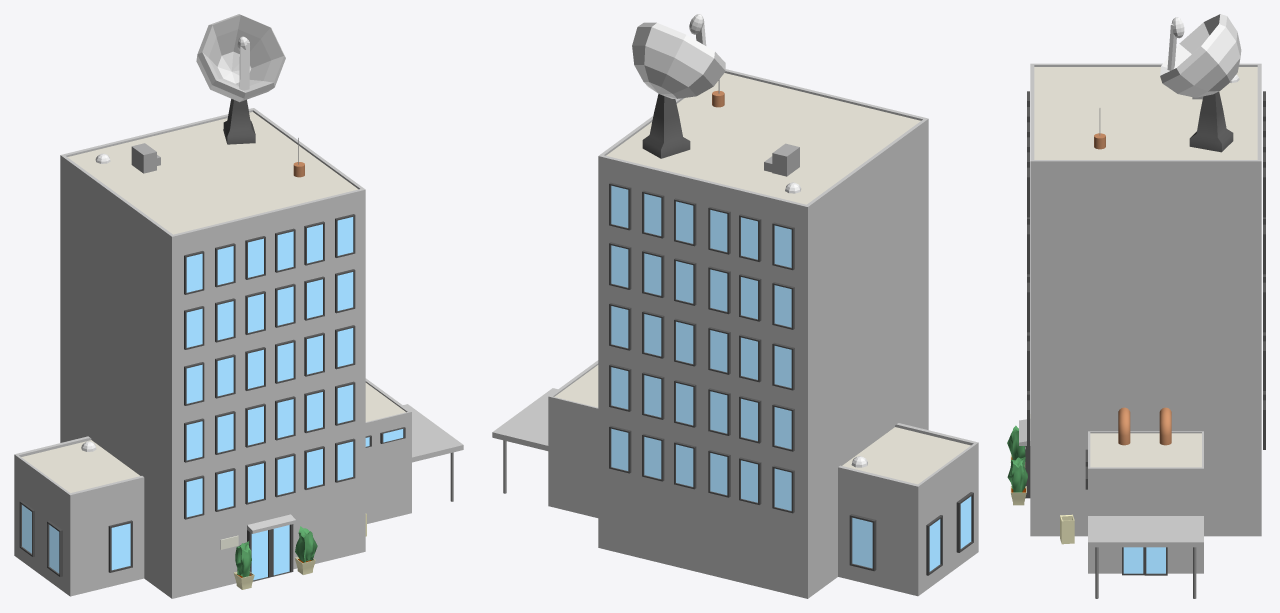
Rendered from nasa_headquarters.glb.
The picture shows the model from 3 angles, left to right: view 1: azimuth 30°, elevation 25°; view 2: azimuth 150°, elevation 25°; view 3: azimuth 270°, elevation 25°; orthographic projection. The views are drawn at different scales.
Parts seen in each view (by area): view 1: pCube1; view 2: pCube1; view 3: pCube1.
Part boxes in pixels (x1=…): pCube1: x1=14, y1=14, x2=463, y2=598; pCube1: x1=492, y1=14, x2=978, y2=598; pCube1: x1=1007, y1=14, x2=1265, y2=598.
Size of the model in its own units: 24.18 by 28 by 13.21.
